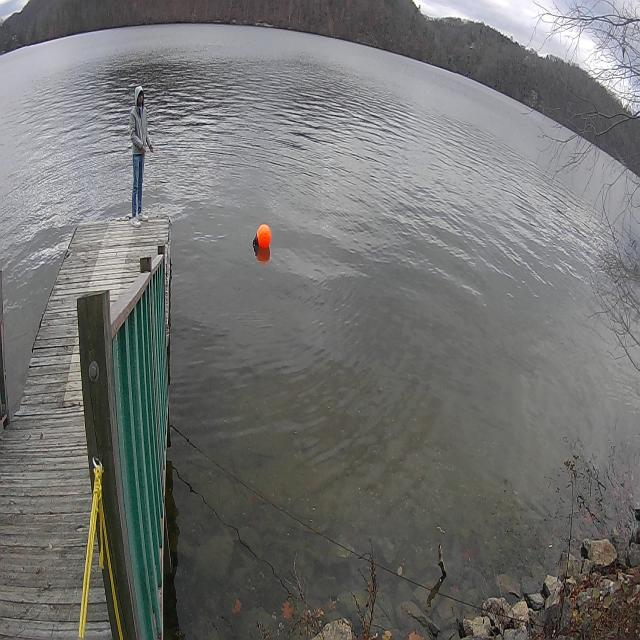Buoy: (254, 219, 273, 259)
